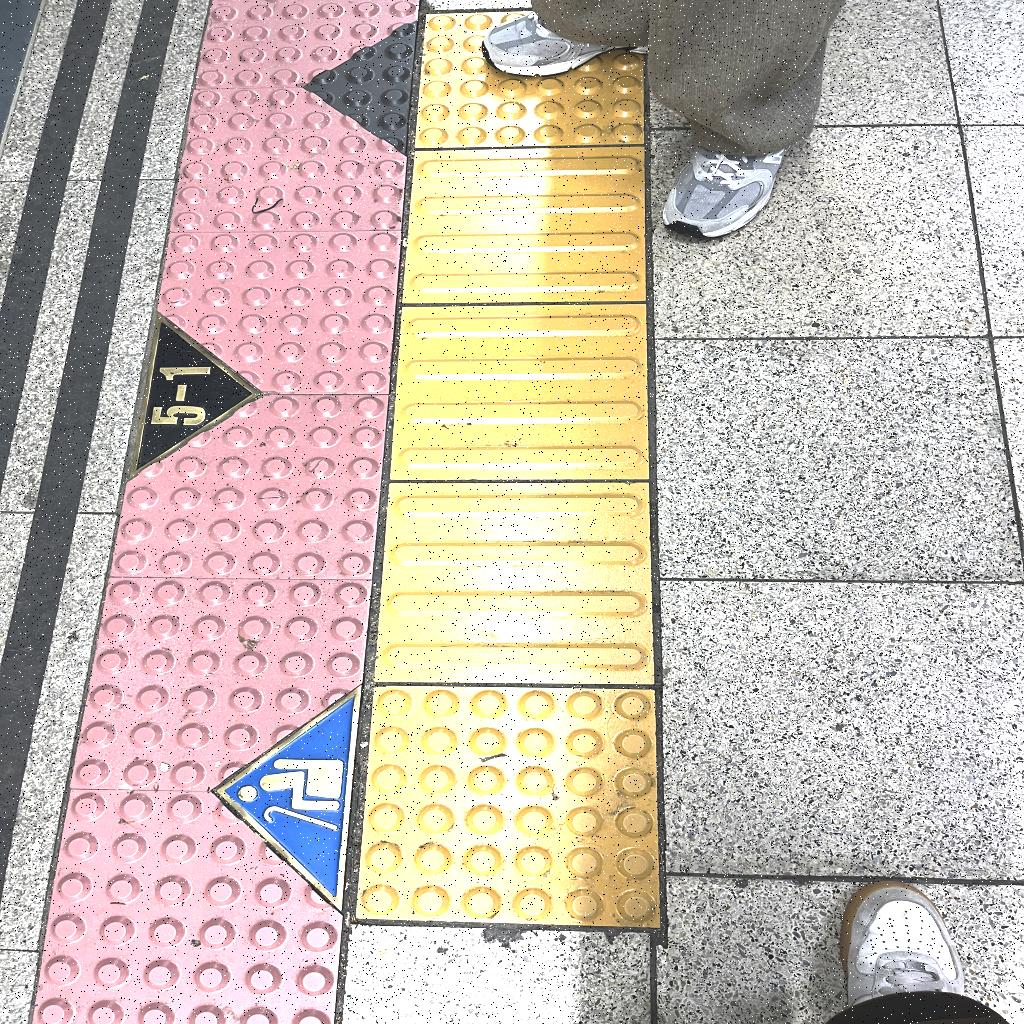Stop block normal: (358, 686, 663, 926)
Straight block normal: (376, 482, 654, 682), (390, 305, 649, 479), (403, 147, 645, 301)
